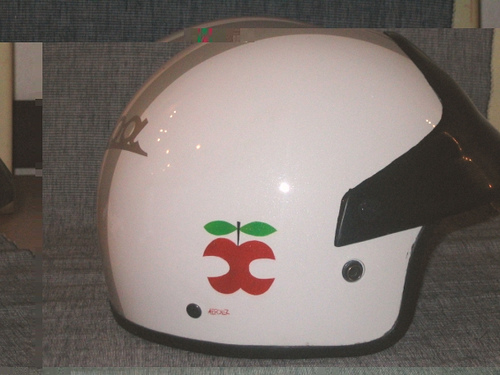helmet: (92, 10, 483, 339)
